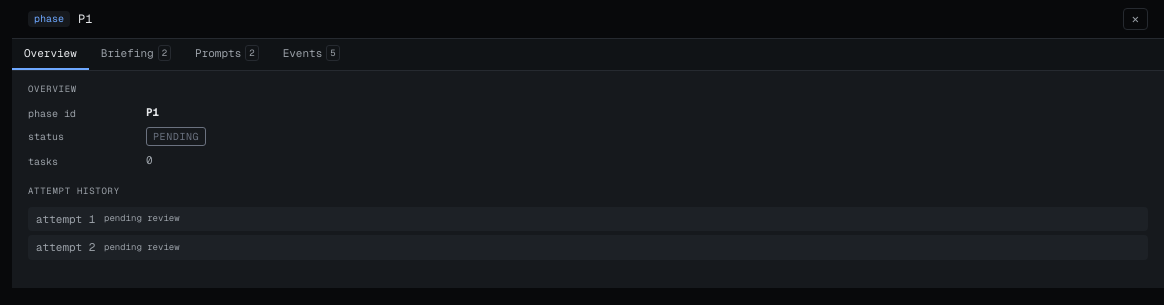
Test: Inspector - tab switching › switches to Briefing tab on click
Click the button with aria-label "Briefing tab": (136,54) [89,39,183,70]
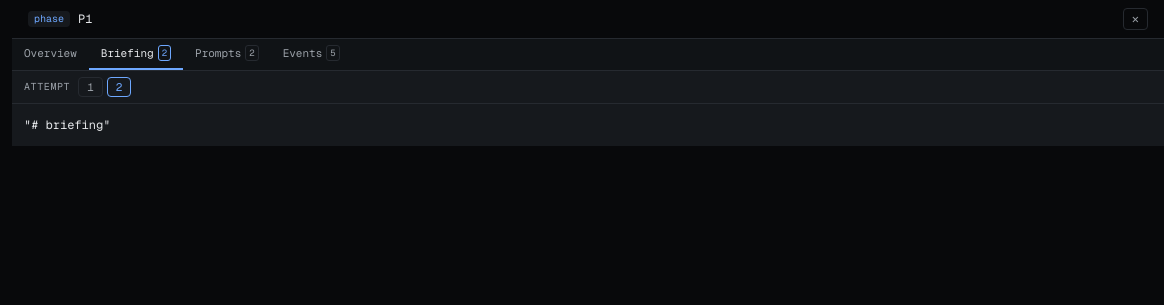
Now the element with test id "briefing-tab" is shown, box [12,70,1163,146]
